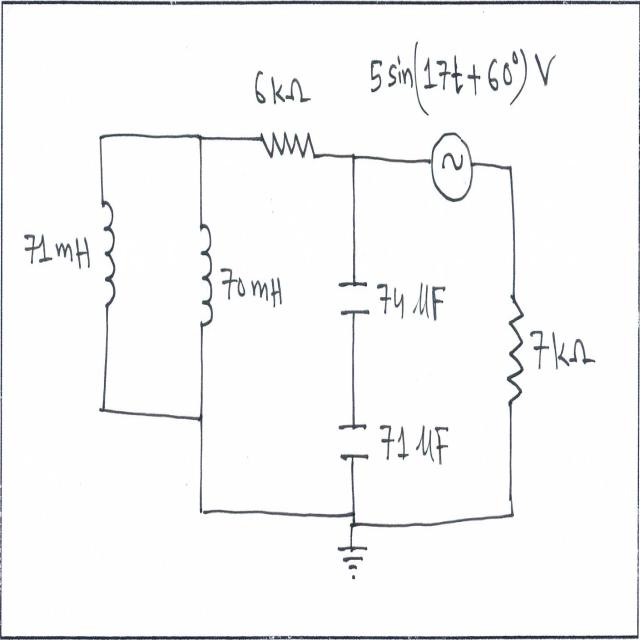ac_current: (427, 125, 477, 213)
capacitor: (334, 272, 374, 326), (335, 415, 372, 467)
ground: (334, 536, 370, 591)
inductor: (195, 216, 217, 343), (98, 187, 118, 316)
resistor: (256, 118, 322, 176), (502, 280, 529, 414)
